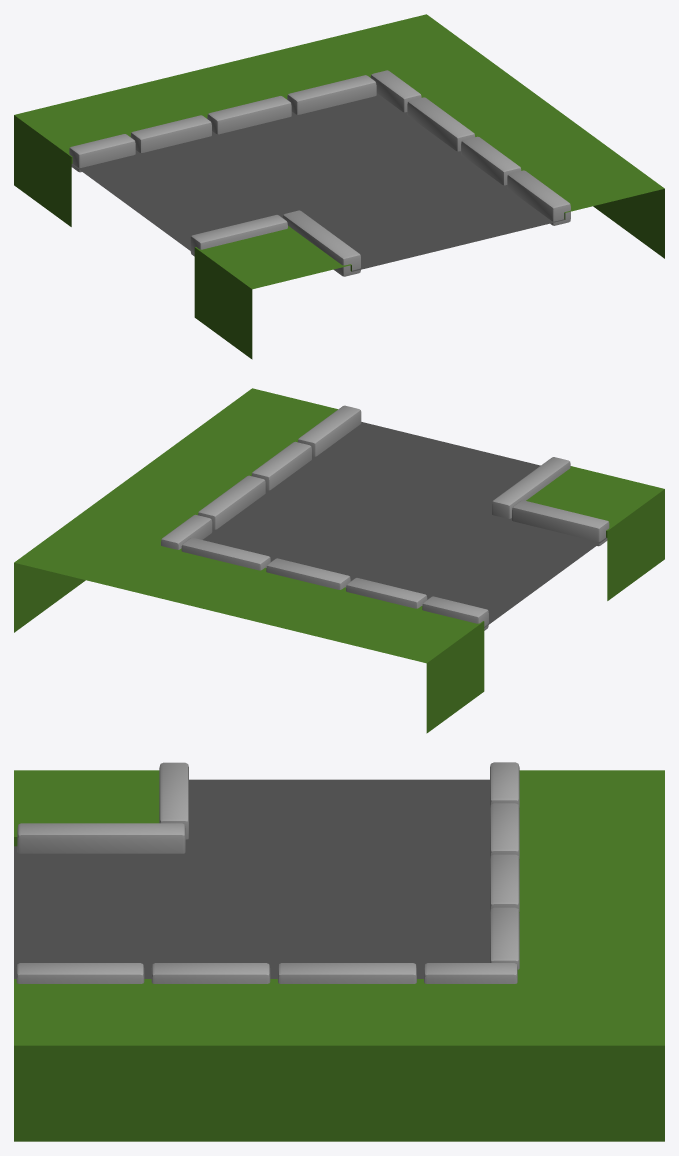
Rendered from SM_tile_road_03.fbx.
3 renders of one model, top to bottom at view 1: azimuth 30°, elevation 25°; view 2: azimuth 150°, elevation 25°; view 3: azimuth 270°, elevation 25°, orthographic. The views are drawn at different scales.
Visible parts, largest first — view 1: Box172; view 2: Box172; view 3: Box172.
Part boxes in pixels (left/top/right/bottom): Box172: left=14, top=14, right=664, bottom=359; Box172: left=14, top=388, right=664, bottom=733; Box172: left=14, top=762, right=664, bottom=1141.
Size of the model in its own units: 394 by 70.91 by 394.
